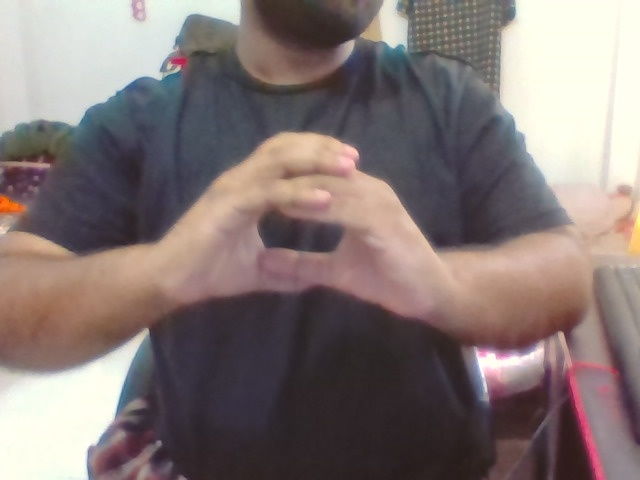O: (194, 116, 440, 331)
